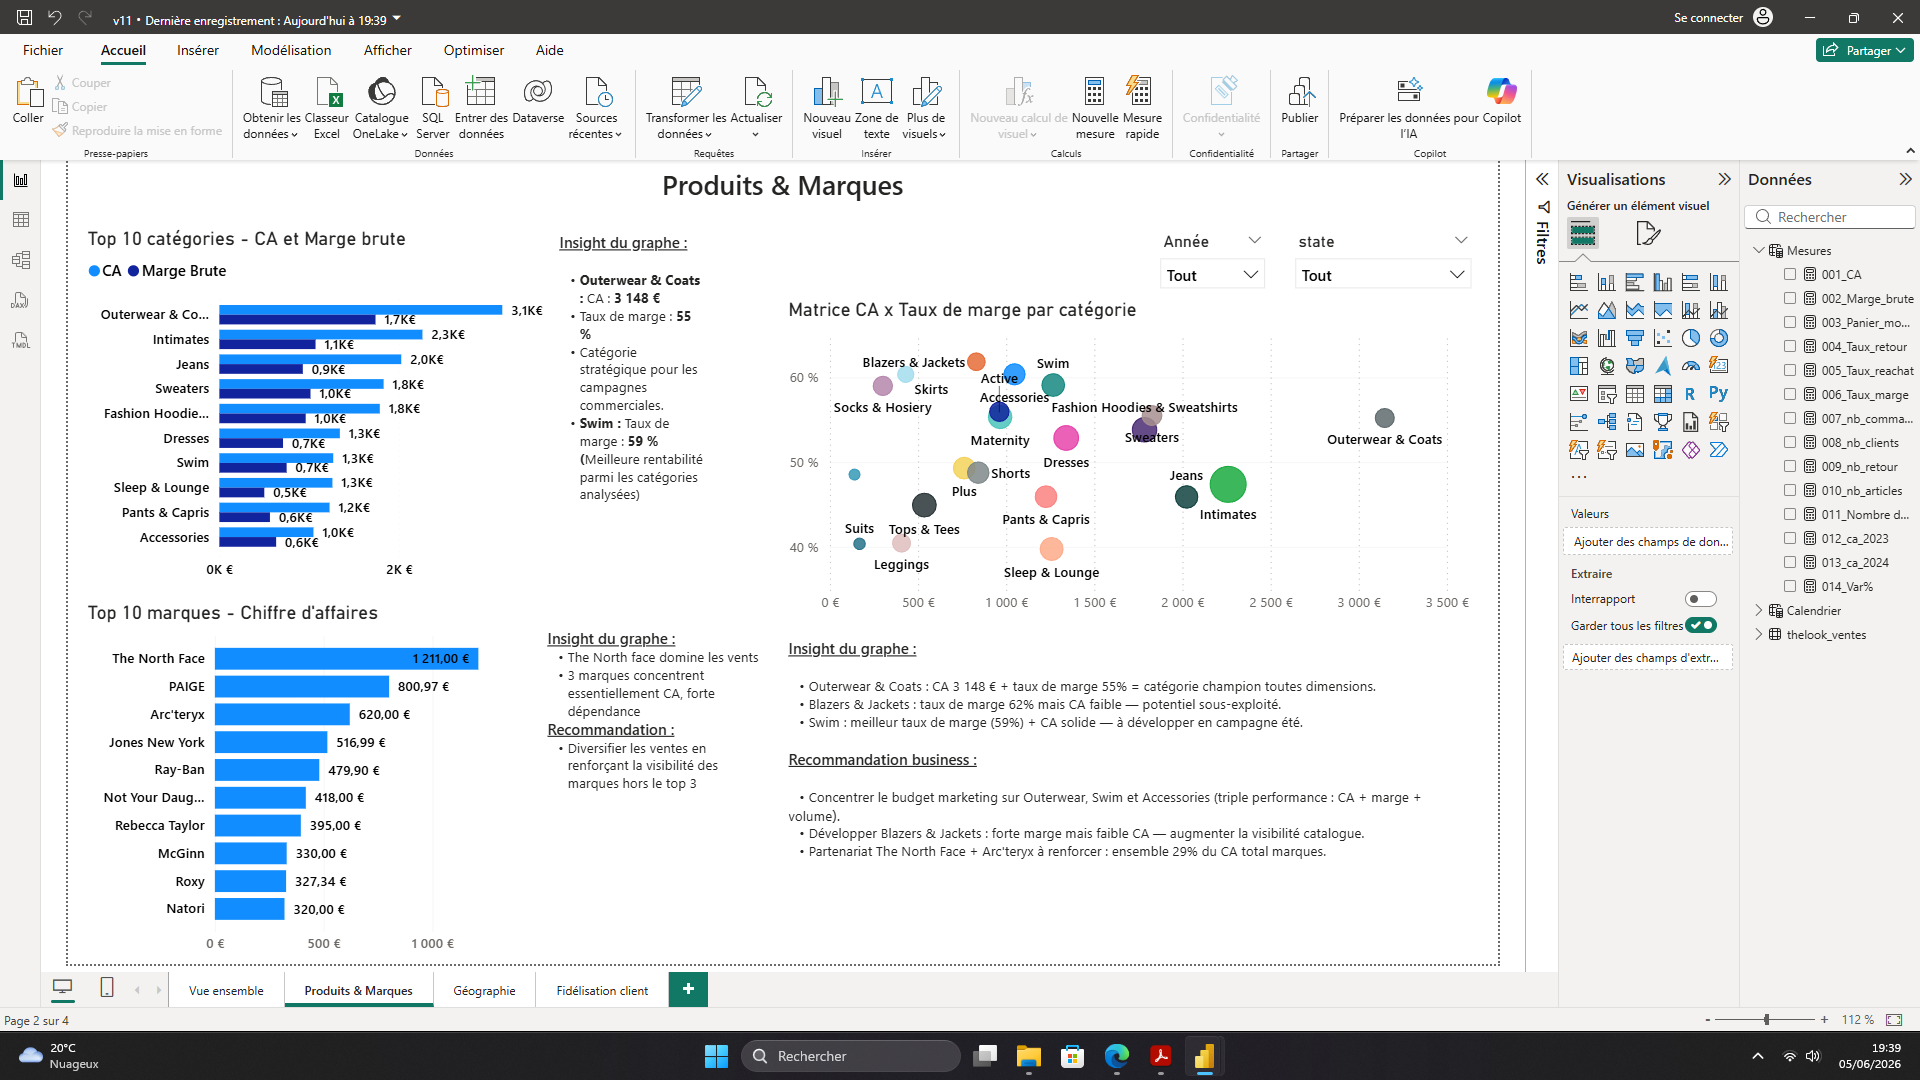

The page's visual inventory and layout, read from the dashboard file:
{"tool":"powerbi","page":{"name":"Produits & Marques","canvas":[1280,720],"ordinal":1},"visuals":[{"type":"textbox","box":[0,0,1280,49.6],"z":0},{"type":"clusteredBarChart","title":"Top 10 catégories  - CA et Marge brute","fields":{"Category":["thelook_ventes.category"],"Y":["Mesures.001_CA","Mesures.002_Marge_brute"]},"box":[12.6,60.3,439.6,324.9],"z":1000},{"type":"textbox","box":[435.7,60,138.9,282.8],"z":2000},{"type":"slicer","fields":{"Values":["thelook_ventes.Année"]},"box":[968.2,60,113.9,64],"z":3000},{"type":"slicer","fields":{"Values":["thelook_ventes.state"]},"box":[1089.1,60,177.9,64],"z":4000},{"type":"clusteredBarChart","title":"Top 10 marques - Chiffre d''affaires ","fields":{"Category":["thelook_ventes.brand"],"Y":["Mesures.001_CA"]},"box":[12.6,394.9,423.1,324.9],"z":5000},{"type":"textbox","box":[424.5,414.6,206,266.9],"z":6000},{"type":"scatterChart","title":"Matrice CA x Taux de marge par catégorie","fields":{"X":["Mesures.001_CA"],"Y":["Mesures.006_Taux_marge"],"Series":["thelook_ventes.category"],"Size":["CountNonNull(thelook_ventes.order_item_id)"]},"box":[640.5,123.9,619.5,290.8],"z":7000},{"type":"textbox","box":[640.5,423.7,626.5,208.8],"z":8000}]}

Visuals, with their boxes on the page's 1280x720 design canvas (x1, y1, x2, y2). These are canvas units, not pixel positions in the 1920x1080 screenshot, which may show the page scaled, cropped or inside an application window:
textbox: {"x1": 0, "y1": 0, "x2": 1280, "y2": 50}
"Top 10 catégories  - CA et Marge brute" clusteredBarChart: {"x1": 13, "y1": 60, "x2": 452, "y2": 385}
textbox: {"x1": 436, "y1": 60, "x2": 575, "y2": 343}
slicer - thelook_ventes.Année: {"x1": 968, "y1": 60, "x2": 1082, "y2": 124}
slicer - thelook_ventes.state: {"x1": 1089, "y1": 60, "x2": 1267, "y2": 124}
"Top 10 marques - Chiffre d''affaires " clusteredBarChart: {"x1": 13, "y1": 395, "x2": 436, "y2": 720}
textbox: {"x1": 424, "y1": 415, "x2": 630, "y2": 682}
"Matrice CA x Taux de marge par catégorie" scatterChart: {"x1": 640, "y1": 124, "x2": 1260, "y2": 415}
textbox: {"x1": 640, "y1": 424, "x2": 1267, "y2": 632}
